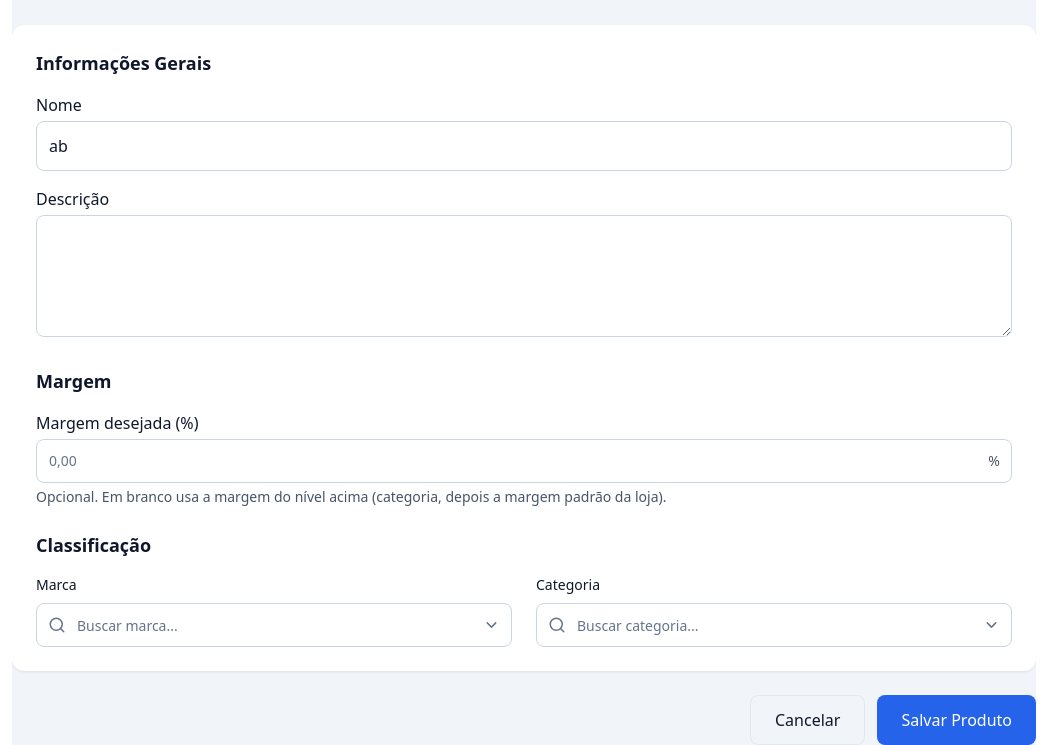
Test: ProductForm › validação no cliente › nome curto, marca e categoria vazias não chegam ao servidor
The width and height of the screenshot is (1048, 745).
Click the button "Salvar Produto" at (957, 720), box [877,695,1036,744]
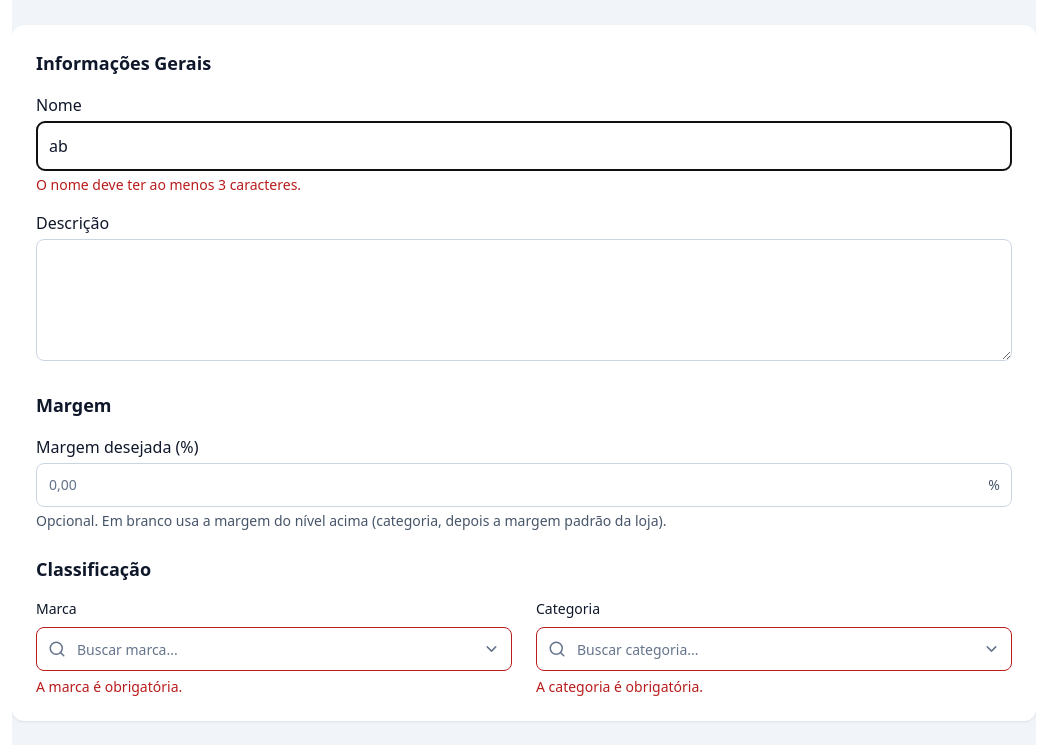
Result: the text "O nome deve ter ao menos 3 caracteres." is shown at [36,175,301,194]
Result: the text "A marca é obrigatória." is shown at [36,677,182,696]
Result: the text "A categoria é obrigatória." is shown at [536,677,703,696]
